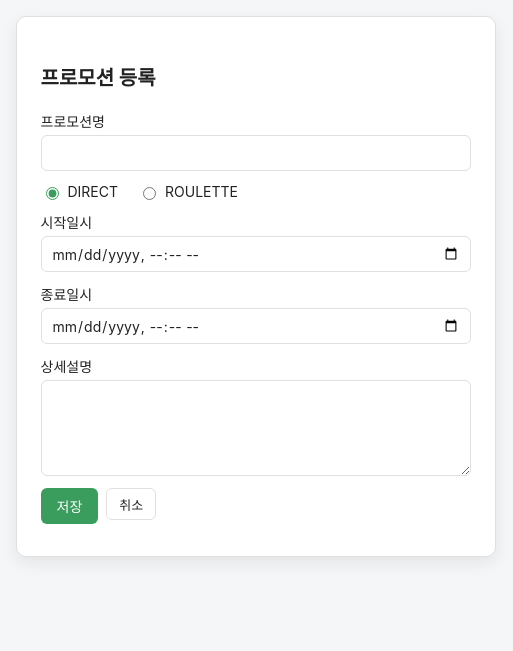
AdminPromotionForm › 등록 실패 시 에러 메시지를 alert로 표시하고 화면 전환하지 않는다
This screenshot has width=513, height=651.
In the field labelled "프로모션명": (256, 153) [40, 135, 470, 171], type "여름 특가전"
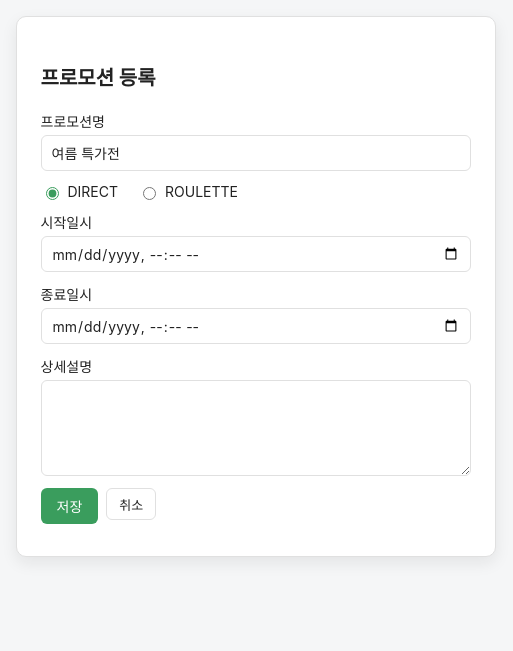
In the field labelled "시작일시": (256, 254) [40, 236, 470, 272], type "2026-08-01T00:00"
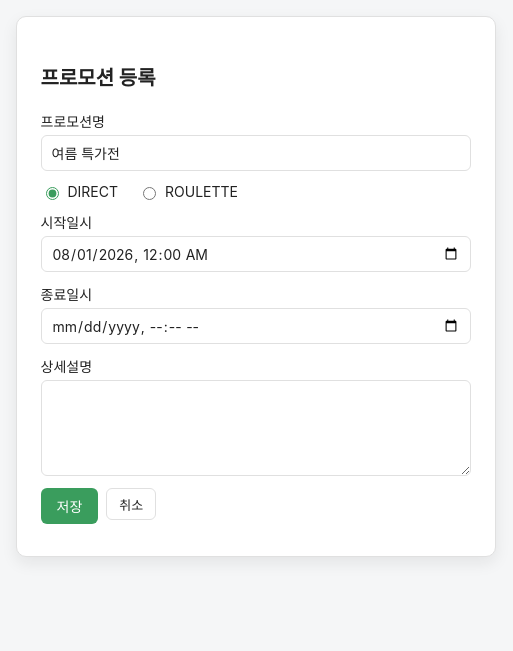
In the field labelled "종료일시": (256, 326) [40, 308, 470, 344], type "2026-08-31T00:00"
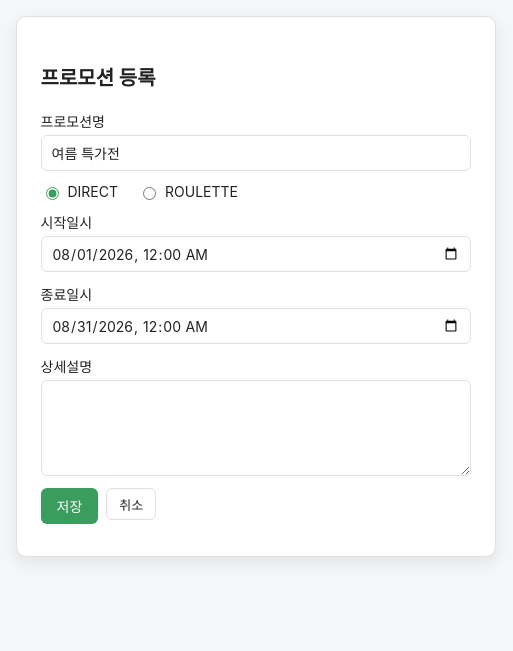
In the text box labelled "상세설명": (256, 428) [40, 380, 470, 476], type "설명"
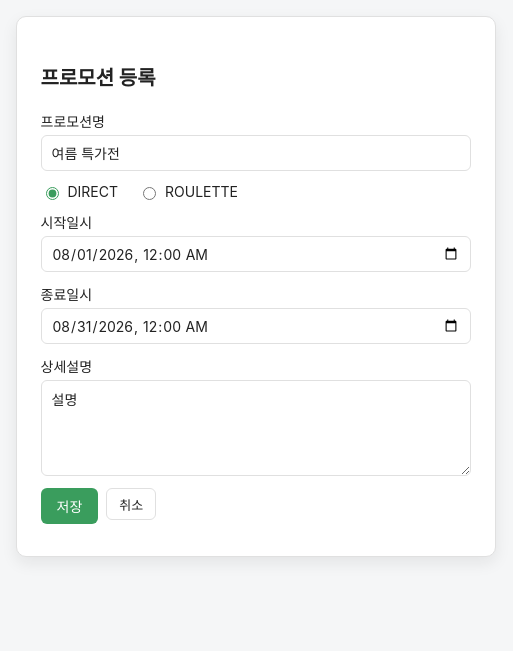
Click the button "저장": (69, 506) [40, 488, 98, 524]
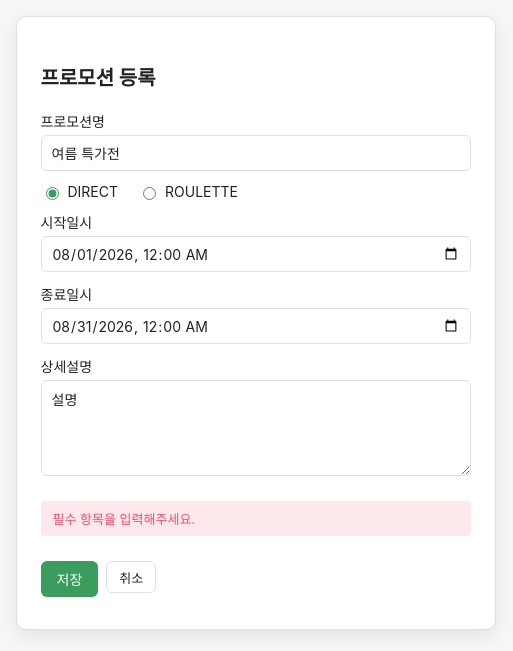
Now the message reads "필수 항목을 입력해주세요.", box [52, 511, 195, 527]
